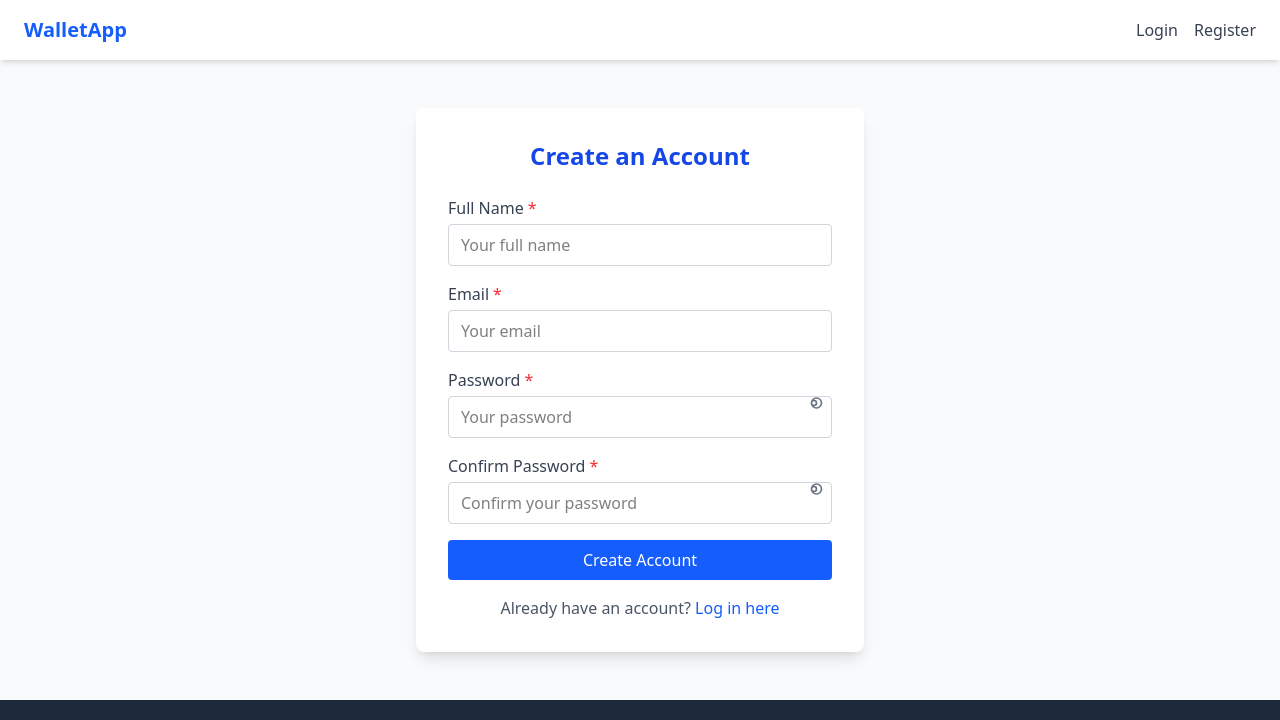
Test case: Registro de usuario › valida que las contraseñas coincidan
Type "Test User" into the field with test id "register-name" at (640, 245), box [448,224,832,266]
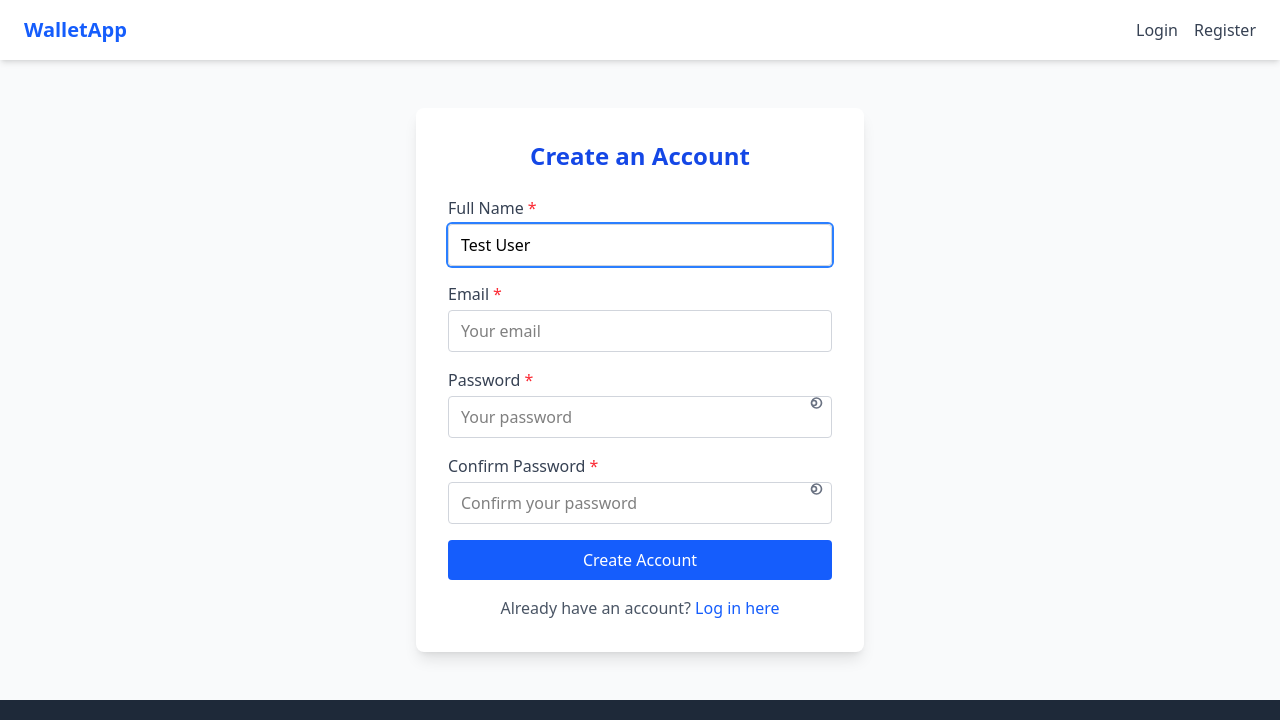
Type "test@example.com" into the field with test id "register-email" at (640, 331), box [448,310,832,352]
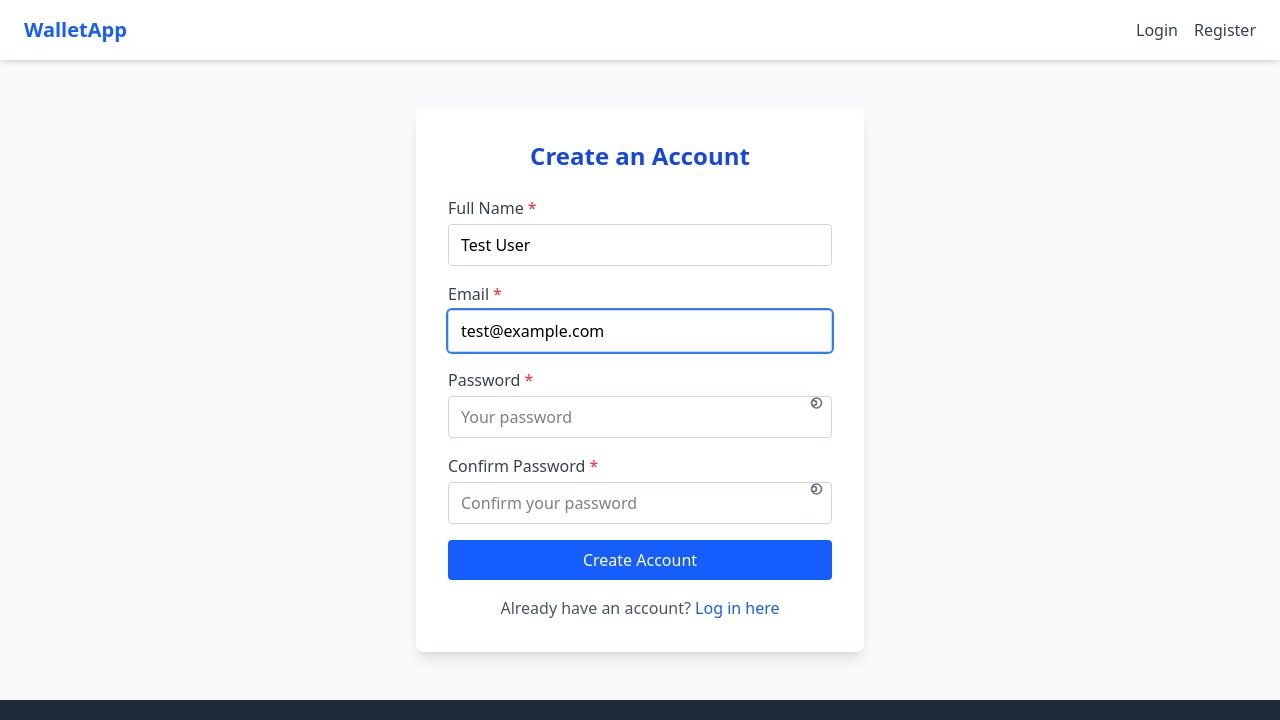
Type "Password1!" into the password field with test id "register-password" at (640, 417), box [448,396,832,438]
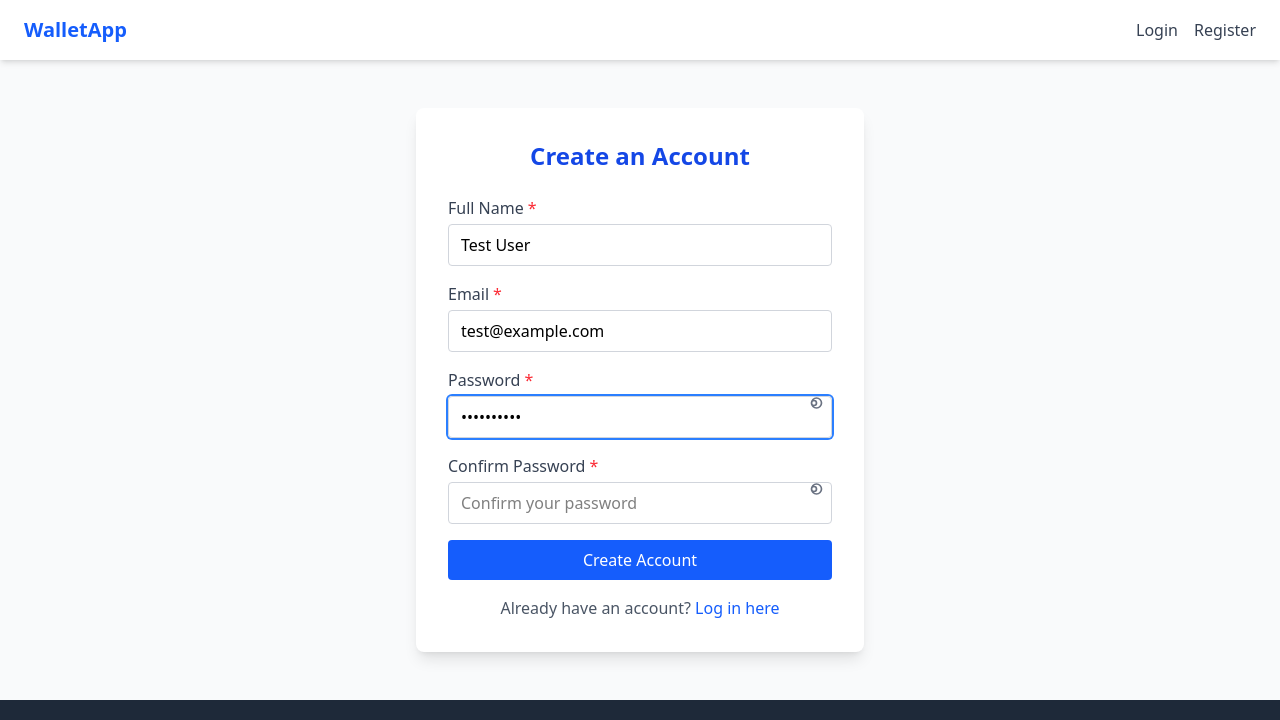
Type "Password2!" into the password field with test id "register-confirm-password" at (640, 503), box [448,482,832,524]
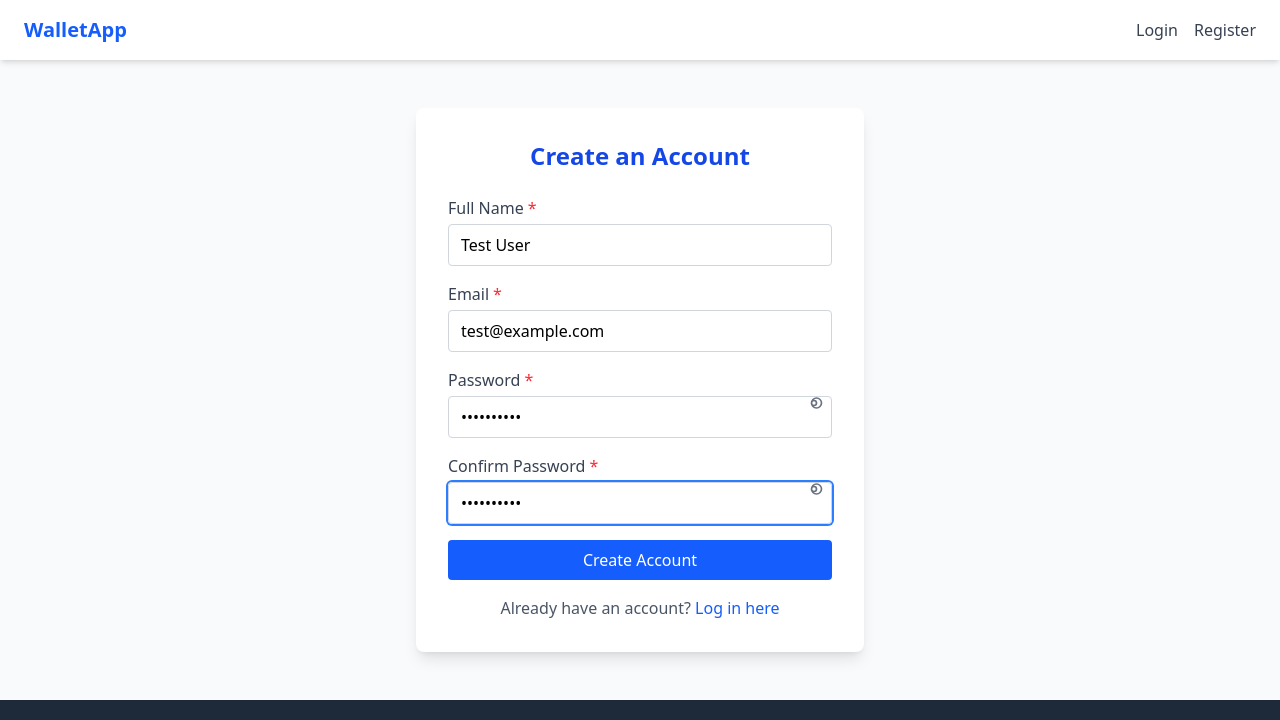
Click the button with test id "register-submit" at (640, 560), box [448,540,832,580]
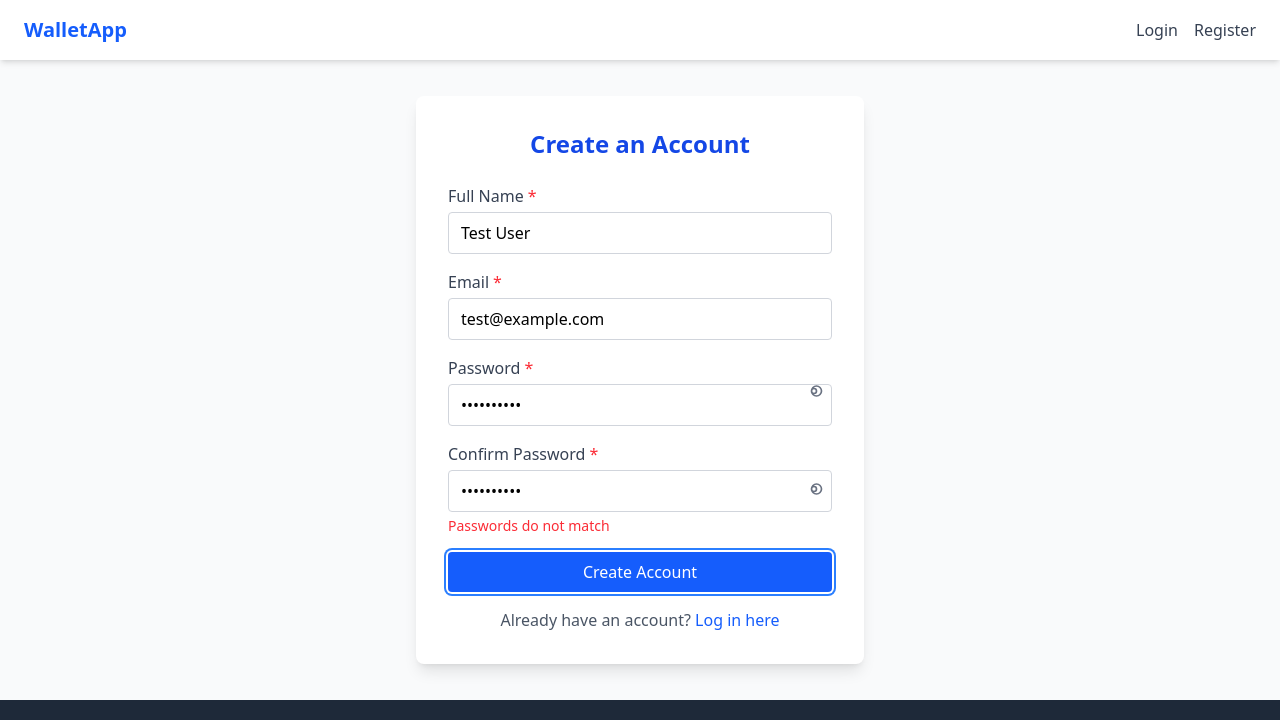
Check: the text "Passwords do not match" is shown, box [448,516,610,535]
